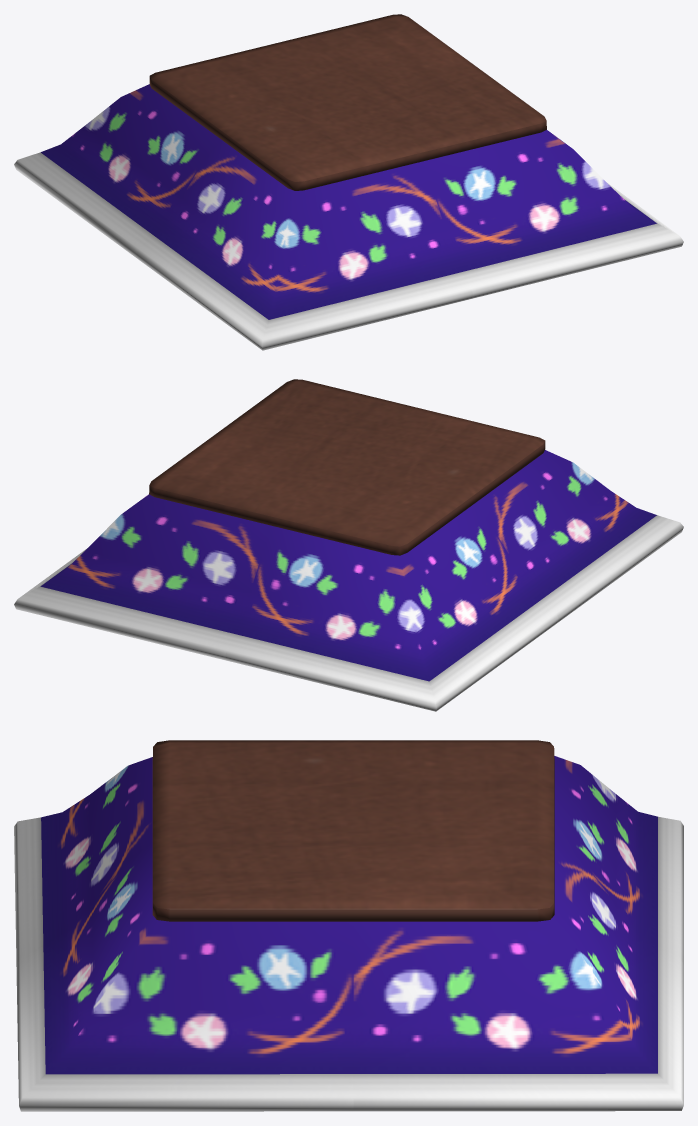
File: kotatsu_blue.fbx
3 views of the same model, one above another, from view 1: azimuth 30°, elevation 25°; view 2: azimuth 150°, elevation 25°; view 3: azimuth 270°, elevation 25° (orthographic). The views are drawn at different scales.
Parts seen in each view (by area): view 1: kotatsu_blue; view 2: kotatsu_blue; view 3: kotatsu_blue.
Part boxes in pixels (box(x1,y1,x2,y2)): kotatsu_blue: box(14, 14, 683, 350); kotatsu_blue: box(14, 379, 683, 711); kotatsu_blue: box(14, 740, 683, 1111).
Size of the model in its own units: 135 by 34.13 by 137.
